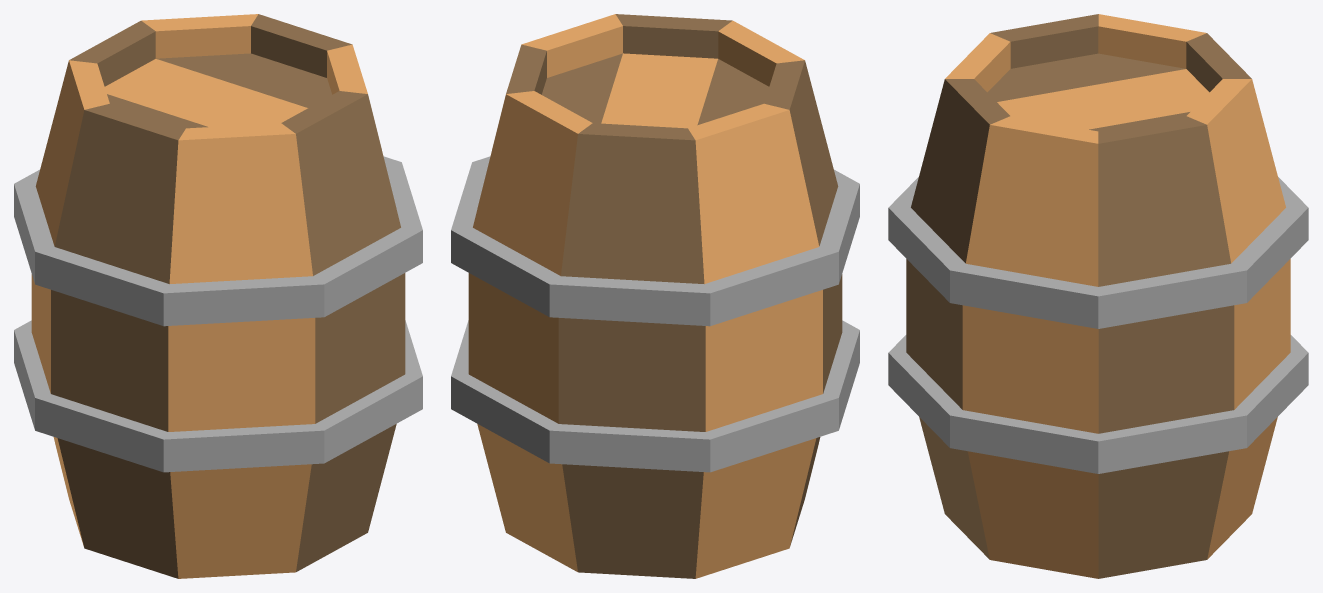
File: Assets.fbx_Barrel.fbx
The picture shows the model from 3 angles, left to right: view 1: azimuth 30°, elevation 25°; view 2: azimuth 150°, elevation 25°; view 3: azimuth 270°, elevation 25°; orthographic projection.
Visible parts, largest first — view 1: Barrel; view 2: Barrel; view 3: Barrel.
Part boxes in pixels (left/top/right/bottom): Barrel: left=14, top=14, right=422, bottom=578; Barrel: left=451, top=14, right=859, bottom=578; Barrel: left=888, top=14, right=1308, bottom=578.
Bounding box in the file's own units: 70 × 80 × 70.
